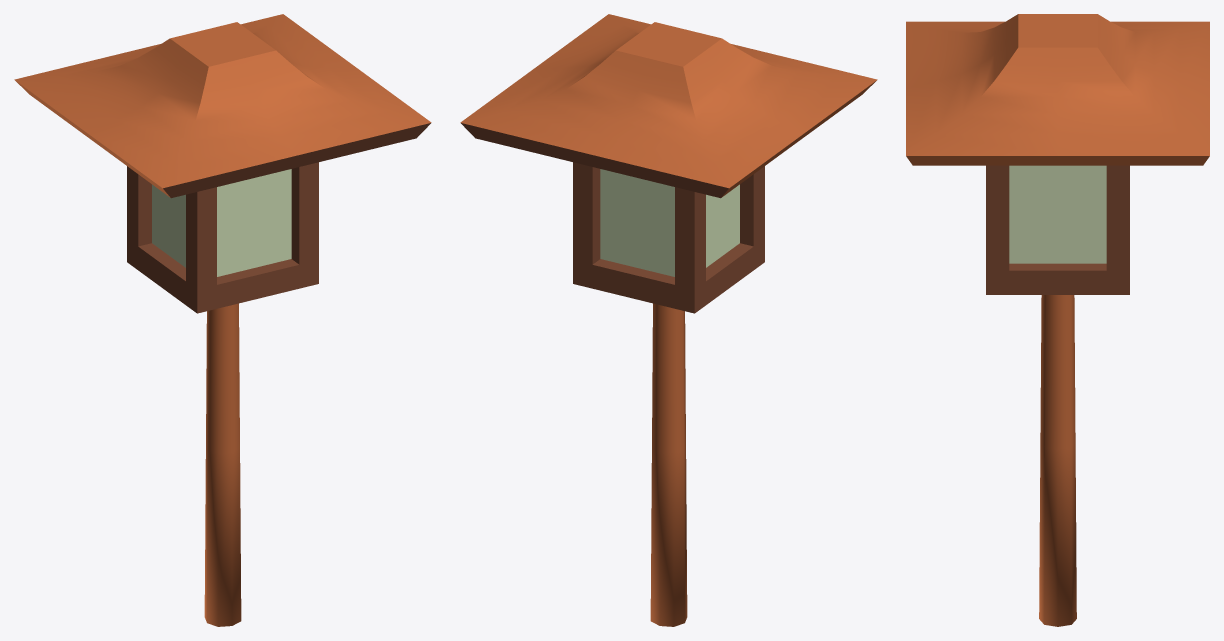
The model's file is lamp_02.fbx.
The picture shows the model from 3 angles, left to right: view 1: azimuth 30°, elevation 25°; view 2: azimuth 150°, elevation 25°; view 3: azimuth 270°, elevation 25°; orthographic projection. The views are drawn at different scales.
Parts seen in each view (by area): view 1: Cube.133; view 2: Cube.133; view 3: Cube.133.
Boxes of the visible parts, x1,y1,x2,y2 form: Cube.133: [14, 14, 431, 626]; Cube.133: [460, 14, 877, 626]; Cube.133: [906, 14, 1209, 626].
Bounding box in the file's own units: 158 × 323 × 151.
